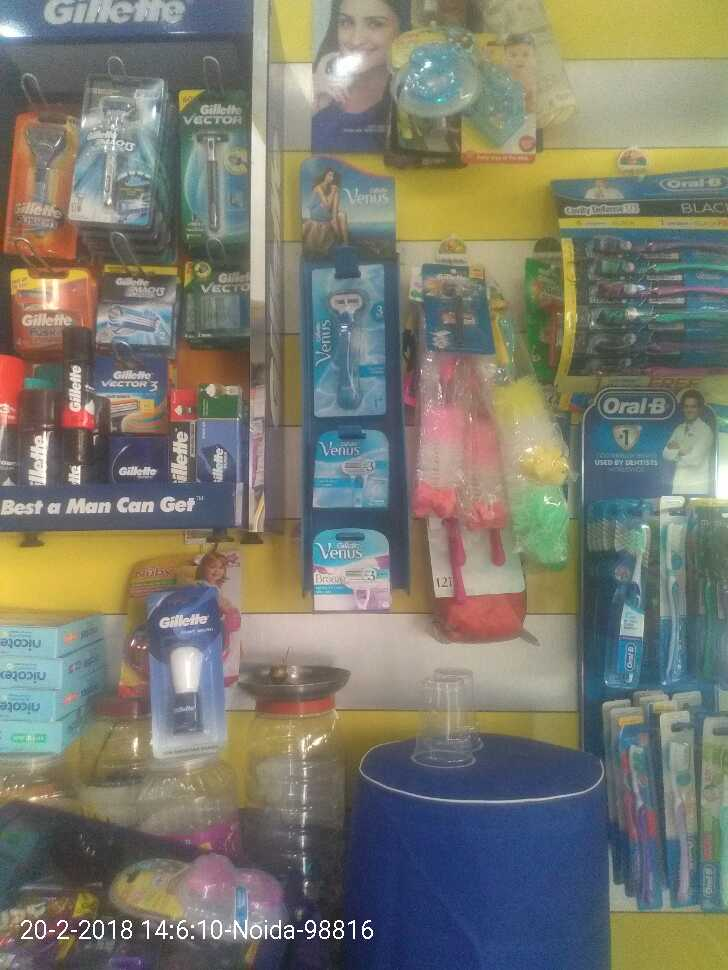beauty: (142, 588, 233, 760), (72, 69, 164, 225), (166, 84, 252, 246), (308, 260, 394, 416), (7, 112, 83, 260), (11, 266, 94, 360), (308, 434, 401, 516), (92, 263, 174, 350), (182, 256, 258, 344), (317, 528, 399, 609), (95, 354, 169, 438)
pharmacy: (605, 498, 651, 685), (661, 712, 702, 915), (622, 709, 660, 915), (655, 497, 692, 693)
